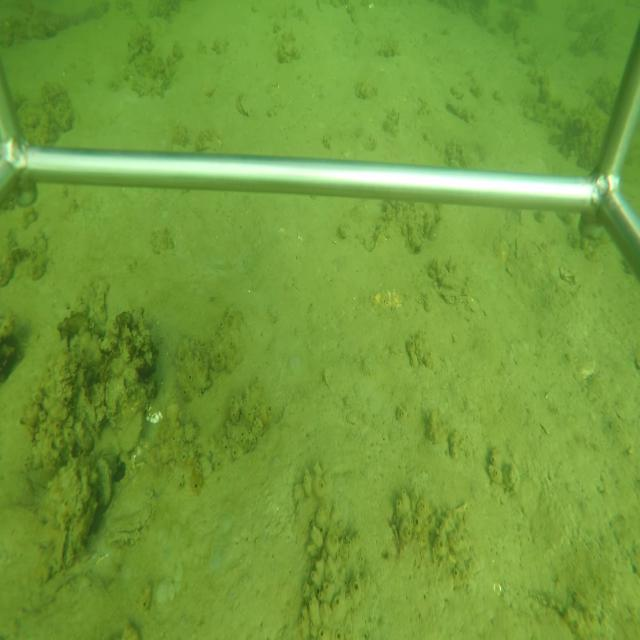Oyster-Closed: (50, 491, 98, 569), (102, 494, 157, 551), (117, 409, 147, 456), (97, 455, 115, 512)
